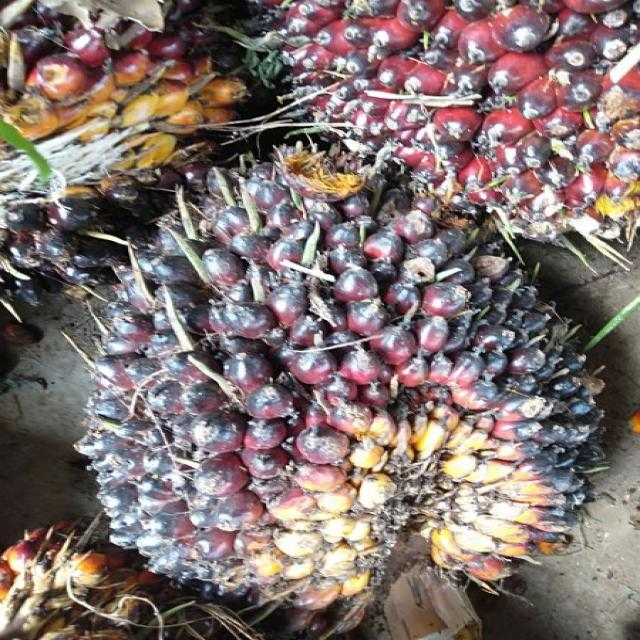fraksi 00: (85, 171, 606, 595)
